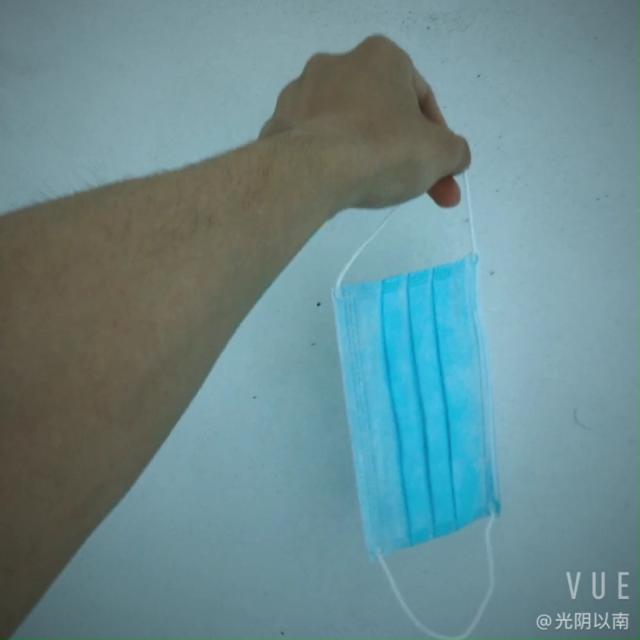non-organic waste: (305, 246, 526, 556)
